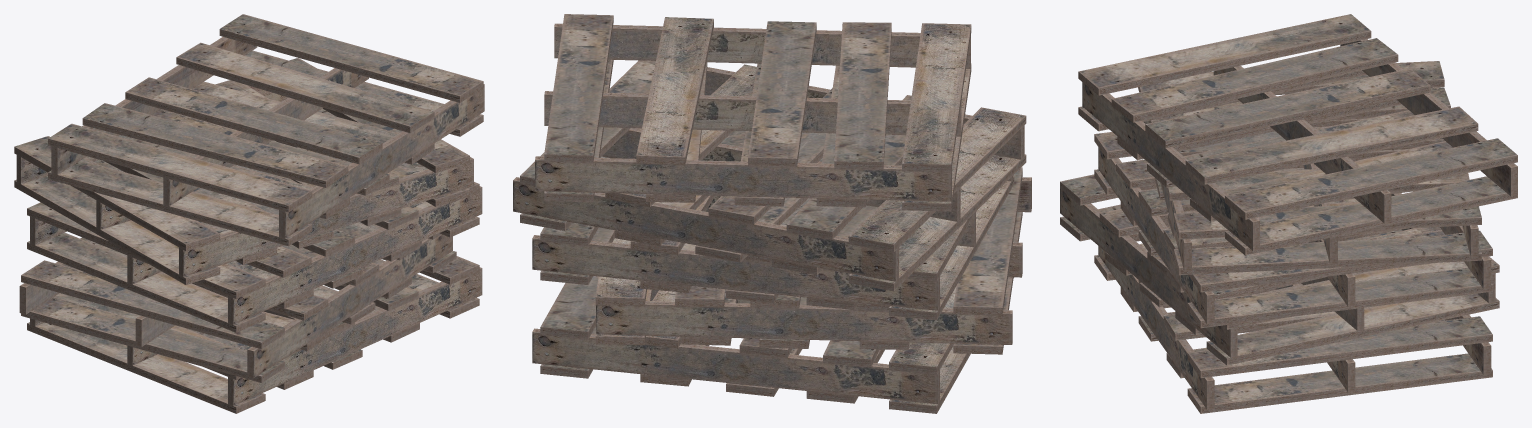
File: Palet_v1_set.001.glb
3 views of the same model, side by side, from view 1: azimuth 30°, elevation 25°; view 2: azimuth 150°, elevation 25°; view 3: azimuth 270°, elevation 25° (orthographic). The views are drawn at different scales.
Parts seen in each view (by area): view 1: Palet_v1_set.001; view 2: Palet_v1_set.001; view 3: Palet_v1_set.001.
Part boxes in pixels (x1,y1,x2,y2): Palet_v1_set.001: (14,14,484,413); Palet_v1_set.001: (513,14,1031,413); Palet_v1_set.001: (1060,14,1517,413).
Size of the model in its own units: 2.41 by 1.08 by 2.1.
1 material, 1 textured.
